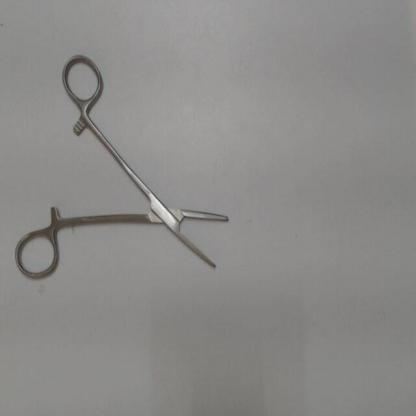Mayo Needle Holder: (13, 40, 242, 288)
